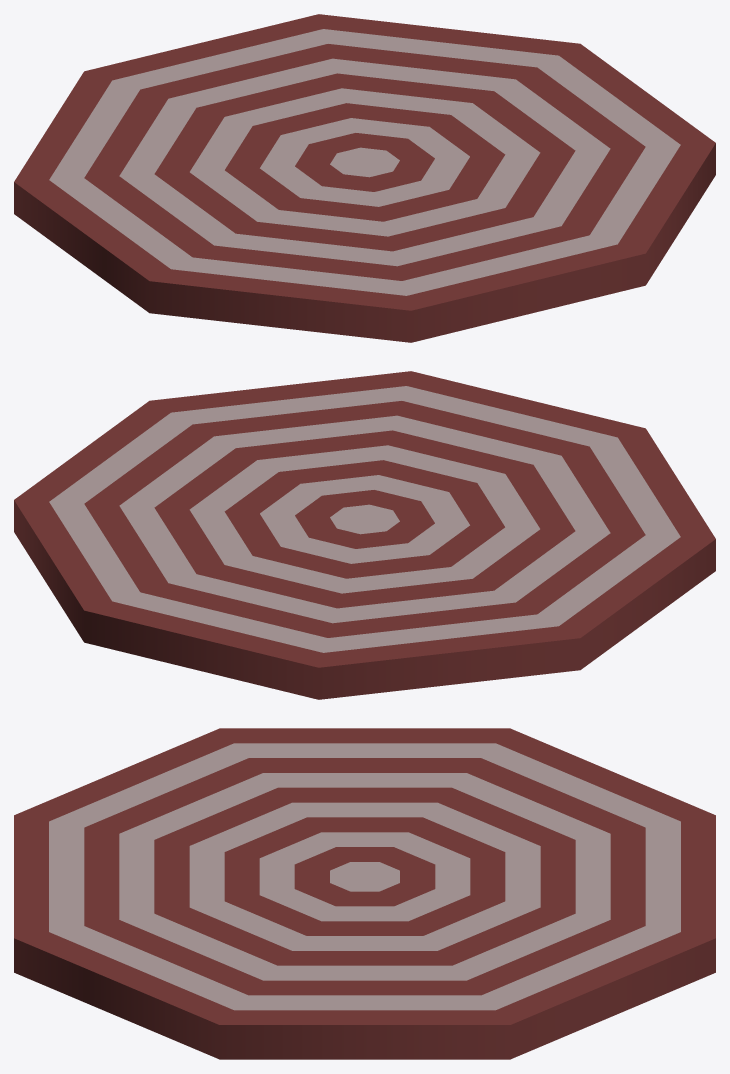
Rendered from Onion.FBX.
The picture shows the model from 3 angles, top to bottom: view 1: azimuth 30°, elevation 25°; view 2: azimuth 150°, elevation 25°; view 3: azimuth 270°, elevation 25°; orthographic projection. The views are drawn at different scales.
Parts seen in each view (by area): view 1: Onion; view 2: Onion; view 3: Onion.
Boxes of the visible parts, <box> form: Onion: <box>14,14,715,342</box>; Onion: <box>14,371,715,699</box>; Onion: <box>14,728,715,1059</box>.
Size of the model in its own units: 9.24 by 9.24 by 0.5.
